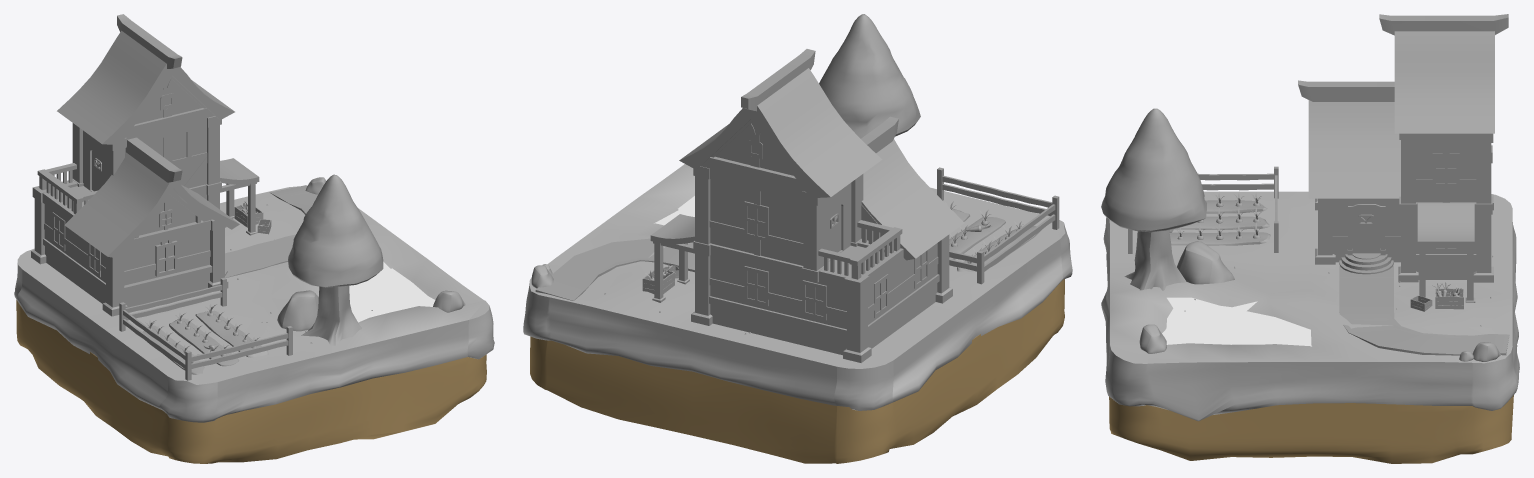
Rendered from dudehouse.fbx.
3 renders of one model, left to right at view 1: azimuth 30°, elevation 25°; view 2: azimuth 150°, elevation 25°; view 3: azimuth 270°, elevation 25°, orthographic. The views are drawn at different scales.
Parts seen in each view (by area): view 1: pCube116, pCube117, pCube77, pCube128, pCone1, pCube26, water, pCube234, pCube7, pCube216, pCube219, pCube34 (+22 smaller); view 2: pCube116, pCube117, pCube128, pCube77, pCone1, pCube26, pCube7, pCube234, pCube41, pCube68, pCube50, pCube148 (+20 smaller); view 3: pCube116, pCube117, pCube77, pCube26, pCone1, pCube234, water, pCube128, pCube118, pCube216, pCube68, pCube34 (+17 smaller).
Boxes of the visible parts, bbox=[...] form: pCube116: bbox=[14, 186, 494, 422]; pCube117: bbox=[16, 300, 486, 463]; pCube77: bbox=[57, 30, 234, 144]; pCube128: bbox=[44, 78, 209, 285]; pCone1: bbox=[288, 174, 383, 287]; pCube26: bbox=[64, 152, 239, 257]; water: bbox=[349, 261, 435, 322]; pCube234: bbox=[225, 185, 317, 277]; pCube7: bbox=[45, 246, 209, 307]; pCube216: bbox=[301, 285, 361, 345]; pCube219: bbox=[277, 290, 318, 331]; pCube34: bbox=[125, 137, 182, 182]; pCube116: bbox=[523, 164, 1072, 410]; pCube117: bbox=[530, 279, 1064, 463]; pCube128: bbox=[710, 122, 937, 329]; pCube77: bbox=[679, 68, 882, 198]; pCone1: bbox=[819, 14, 920, 138]; pCube26: bbox=[861, 139, 964, 260]; pCube7: bbox=[710, 283, 937, 355]; pCube234: bbox=[535, 238, 694, 300]; pCube41: bbox=[710, 244, 851, 287]; pCube68: bbox=[741, 49, 815, 111]; pCube50: bbox=[803, 201, 824, 270]; pCube148: bbox=[701, 156, 805, 191]; pCube116: bbox=[1101, 191, 1519, 421]; pCube117: bbox=[1109, 395, 1513, 463]; pCube77: bbox=[1394, 31, 1494, 133]; pCube26: bbox=[1308, 100, 1400, 198]; pCone1: bbox=[1101, 108, 1206, 232]; pCube234: bbox=[1339, 262, 1509, 355]; water: bbox=[1162, 297, 1311, 346]; pCube128: bbox=[1332, 139, 1476, 253]; pCube118: bbox=[1417, 203, 1474, 246]; pCube216: bbox=[1124, 230, 1186, 290]; pCube68: bbox=[1379, 14, 1508, 35]; pCube34: bbox=[1298, 80, 1394, 101].
Size of the model in its own units: 25.44 by 25.15 by 25.31.
